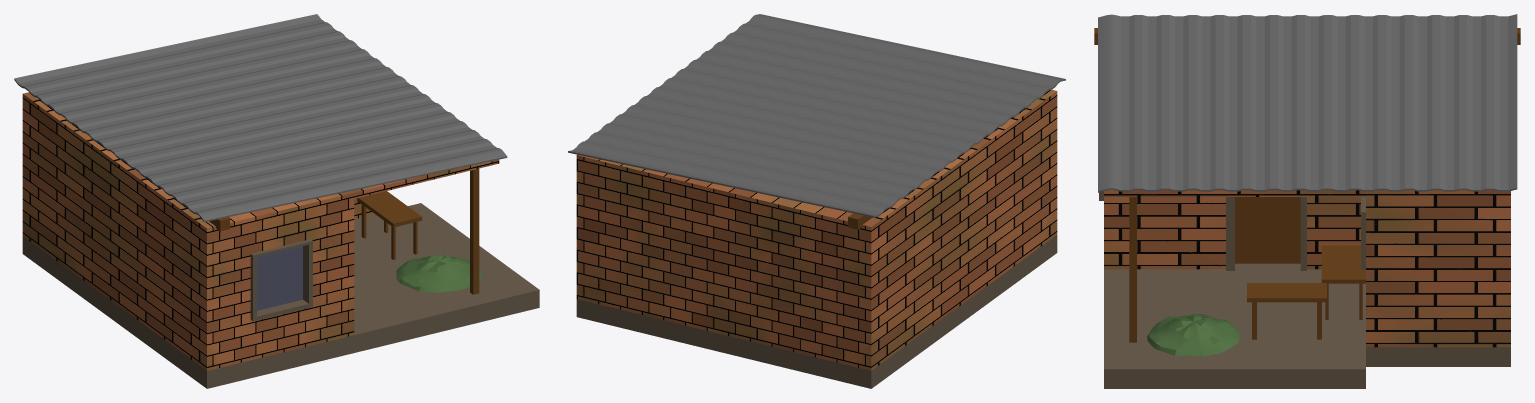
The model's file is House1.fbx.
The picture shows the model from 3 angles, left to right: view 1: azimuth 30°, elevation 25°; view 2: azimuth 150°, elevation 25°; view 3: azimuth 270°, elevation 25°; orthographic projection. The views are drawn at different scales.
Parts seen in each view (by area): view 1: House; view 2: House; view 3: House.
Part boxes in pixels (left/top/right/bottom): House: left=14, top=14, right=539, bottom=388; House: left=568, top=14, right=1065, bottom=388; House: left=1094, top=14, right=1520, bottom=388.
Bounding box in the file's own units: 168 × 82.83 × 166.
